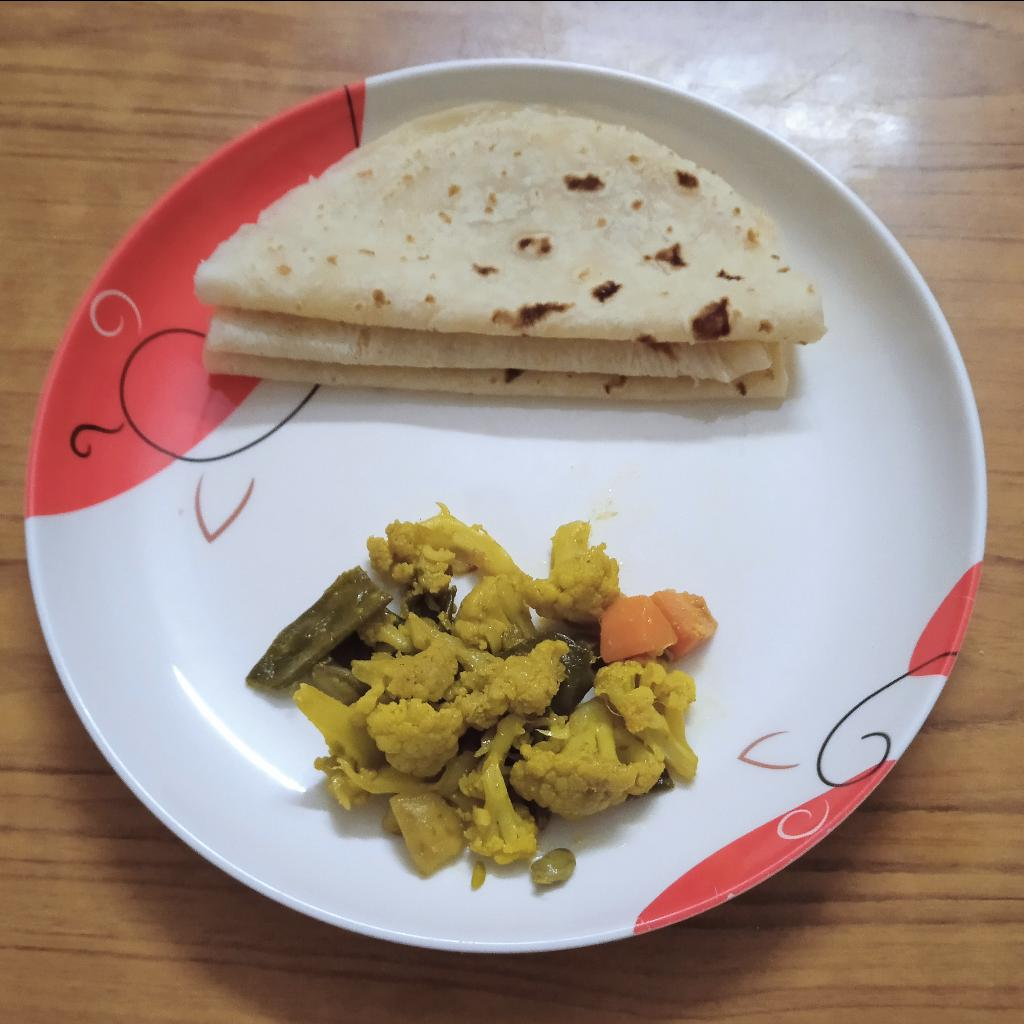cauliflower: (306, 513, 702, 879)
ruti: (195, 101, 827, 395)
shim: (245, 564, 394, 689)
